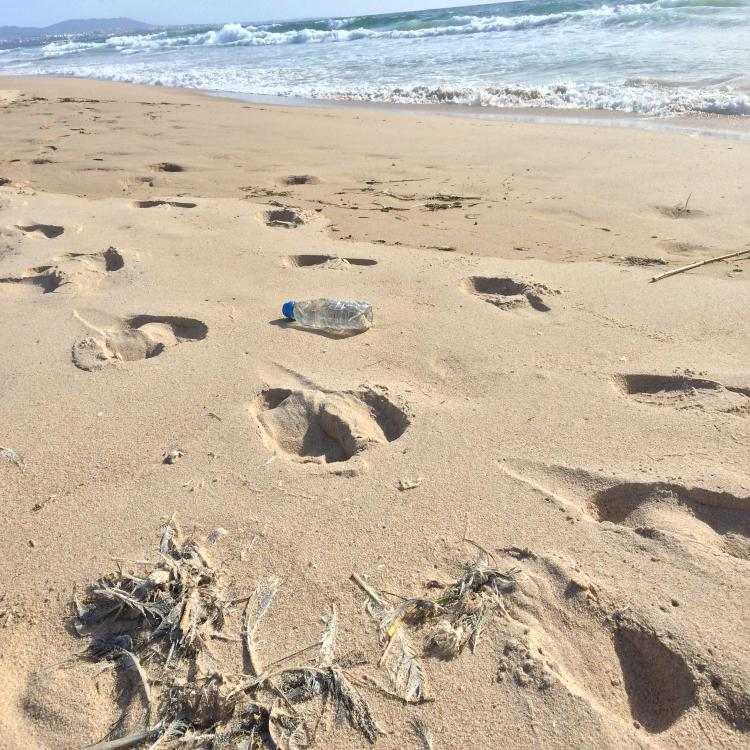Clear plastic bottle: (282, 298, 374, 330)
Plastic bottle cap: (282, 301, 293, 319)
Unlabeled litter: (387, 608, 407, 636)
